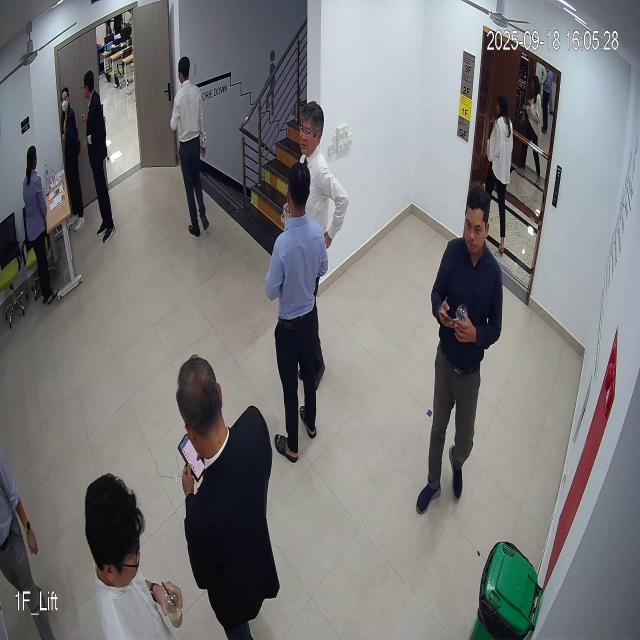face: (461, 182, 491, 258), (292, 102, 324, 154)
